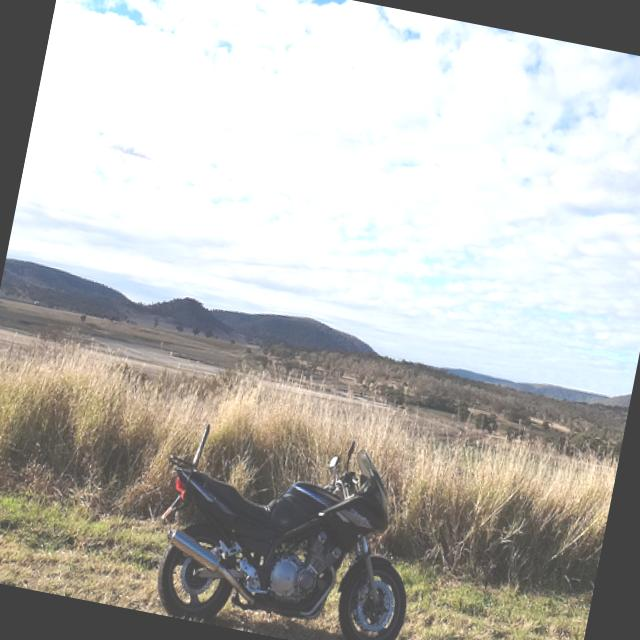Vehicle: (146, 404, 440, 640)
